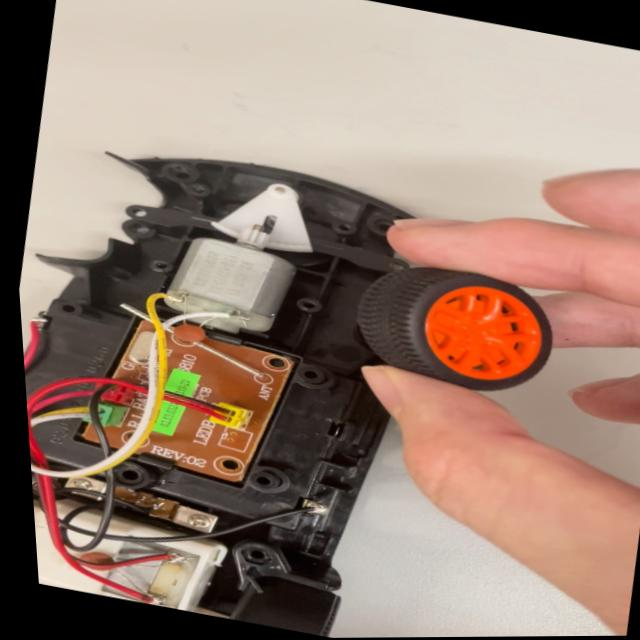motor: (138, 201, 329, 364)
wheel: (332, 235, 576, 409)
